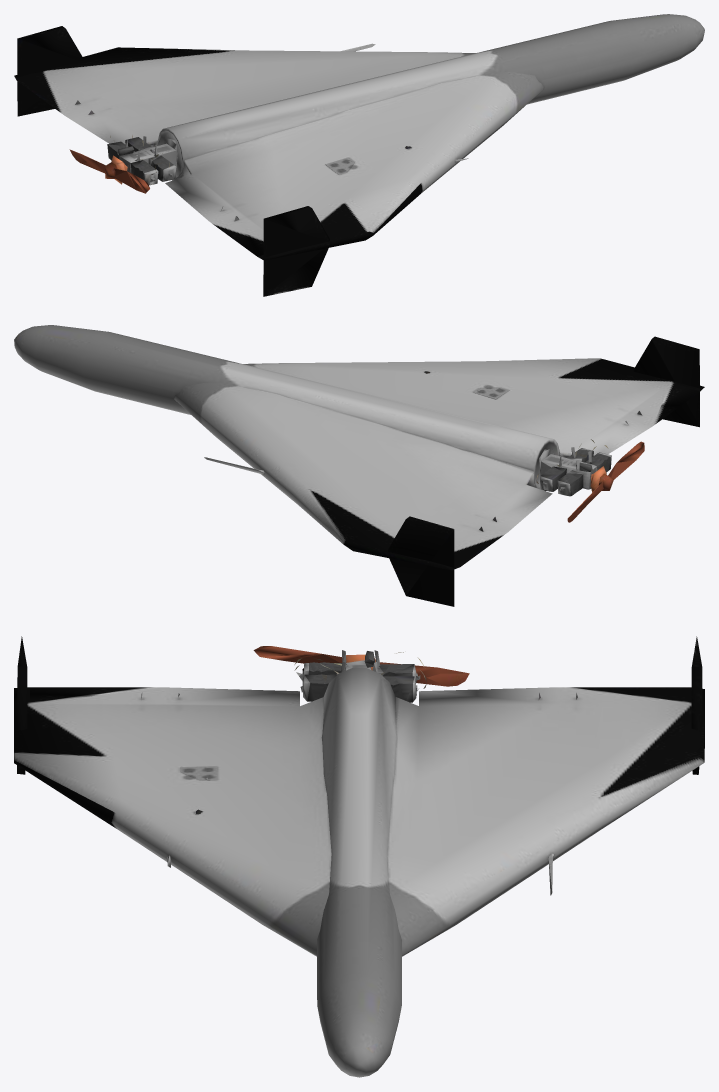
File: shahed_lo.glb
The picture shows the model from 3 angles, top to bottom: view 1: azimuth 30°, elevation 25°; view 2: azimuth 150°, elevation 25°; view 3: azimuth 270°, elevation 25°; orthographic projection. The views are drawn at different scales.
Visible parts, largest first — view 1: g_shahed_hull, g_shahed_rotor; view 2: g_shahed_hull, g_shahed_rotor; view 3: g_shahed_hull, g_shahed_rotor.
Part boxes in pixels (x1=…): g_shahed_hull: x1=14, y1=14, x2=704, y2=296; g_shahed_rotor: x1=69, y1=149, x2=149, y2=193; g_shahed_hull: x1=14, y1=325, x2=704, y2=606; g_shahed_rotor: x1=567, y1=441, x2=644, y2=522; g_shahed_hull: x1=14, y1=636, x2=704, y2=1077; g_shahed_rotor: x1=253, y1=646, x2=469, y2=686.
Bounding box in the file's own units: 3.58 × 0.4502 × 2.61.
2 materials, 2 textured.
